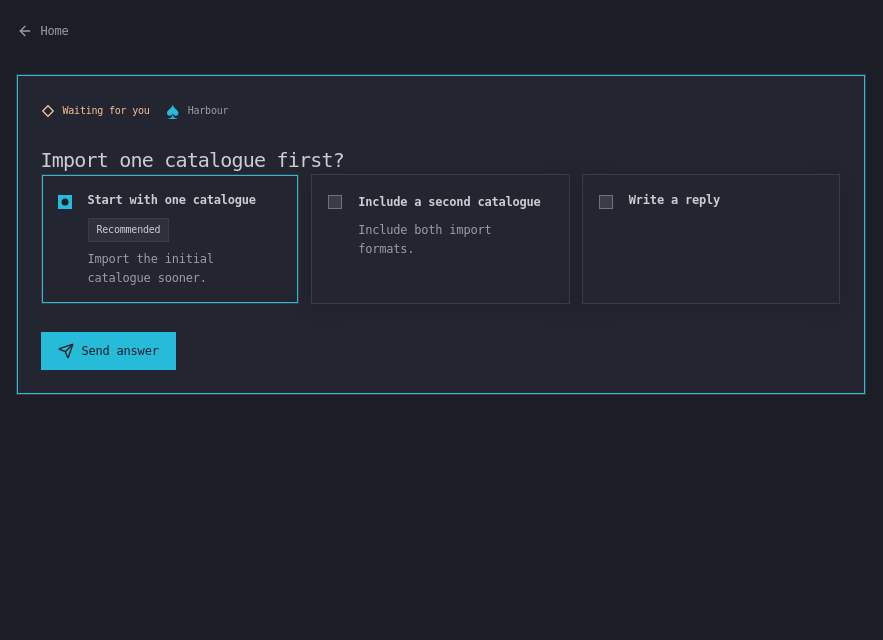
Test: refusals › keeps question-specific VALUE_CHANGED wording and the answer draft in Decision
Click the radio button named "Write a reply" next to "Write a reply" at (606, 202), box top-left (599, 195), bottom-right (613, 209)
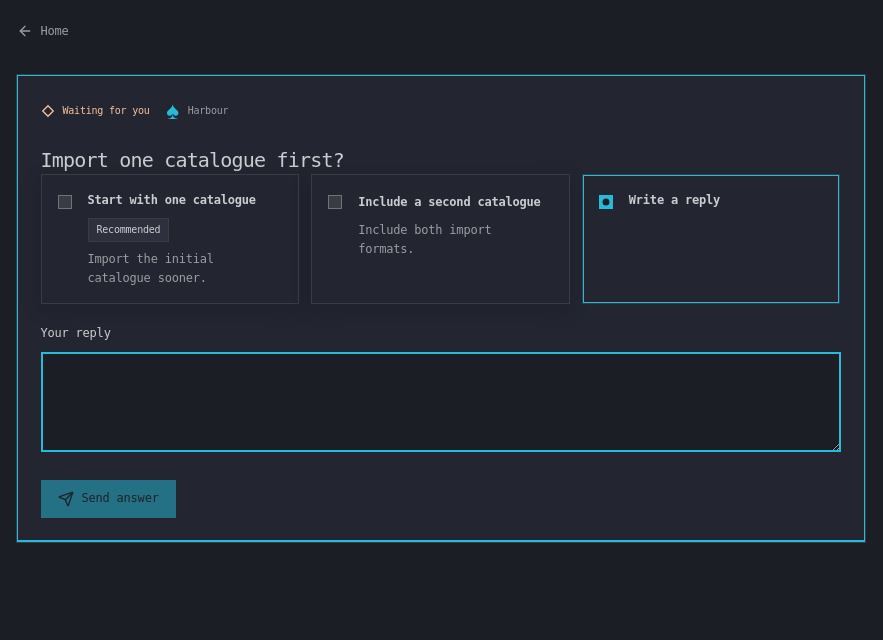
Type "Keep this draft" into the text box at (440, 402), box top-left (40, 352), bottom-right (840, 452)
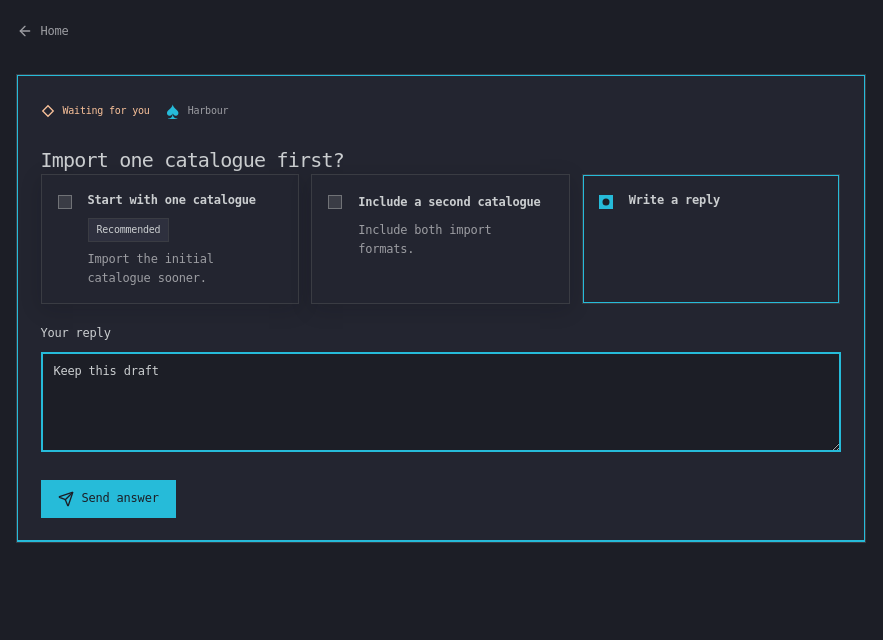
Click the button "Send answer" at (108, 499), box top-left (40, 480), bottom-right (176, 518)
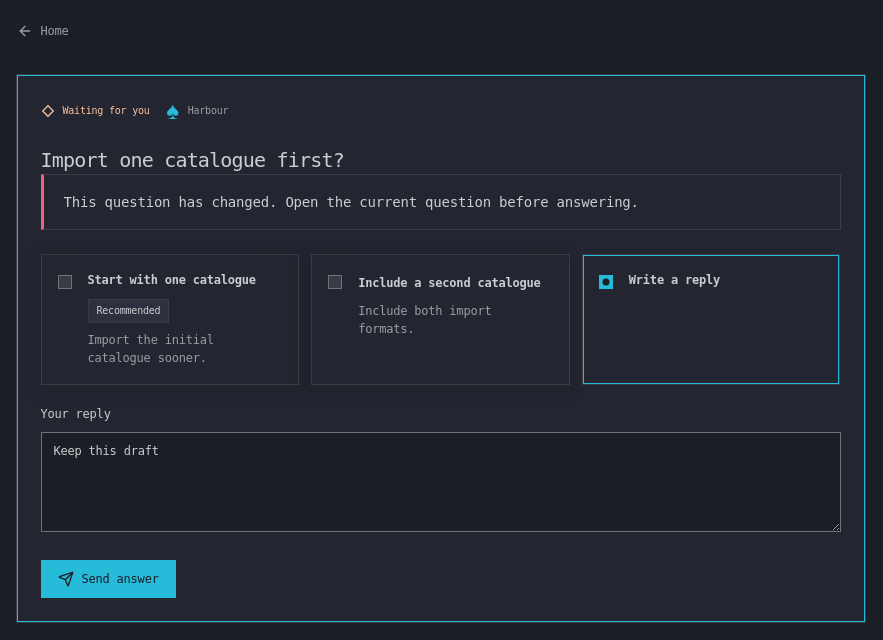
Expected: the message reads "This question has changed. Open the current question before answering.", top-left (64, 194), bottom-right (639, 210)
